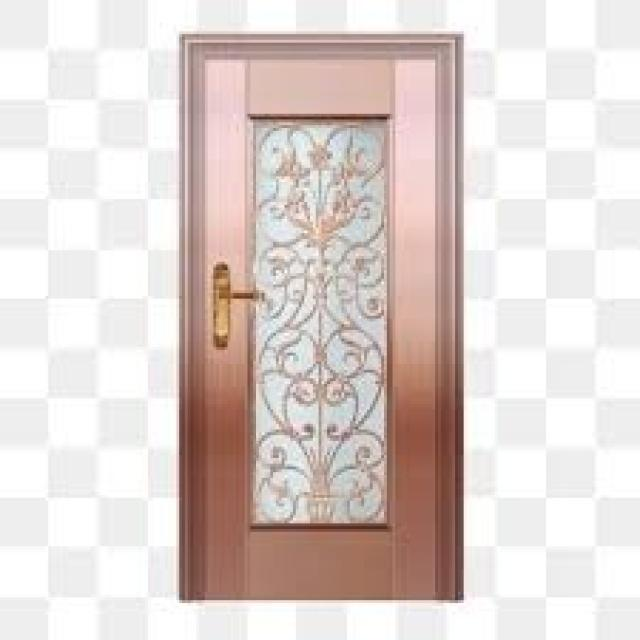door: (178, 31, 465, 603)
